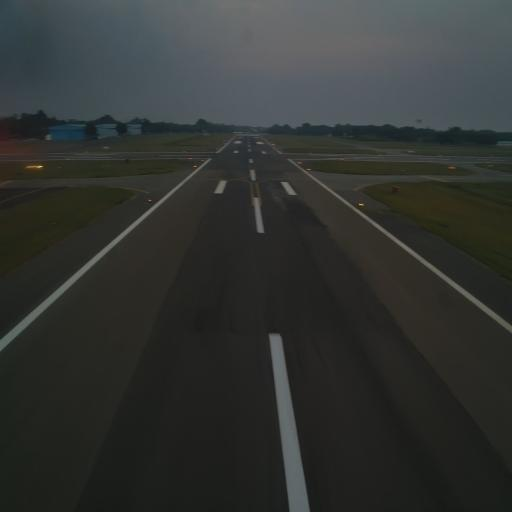on: (358, 198, 364, 211), (148, 196, 153, 204)
